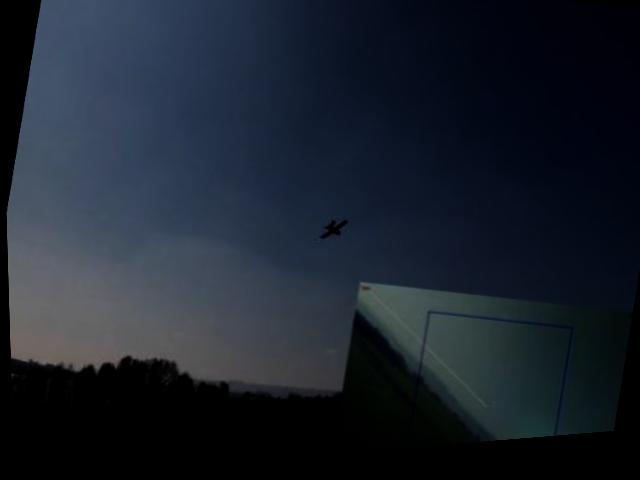uav: (315, 218, 348, 256)
